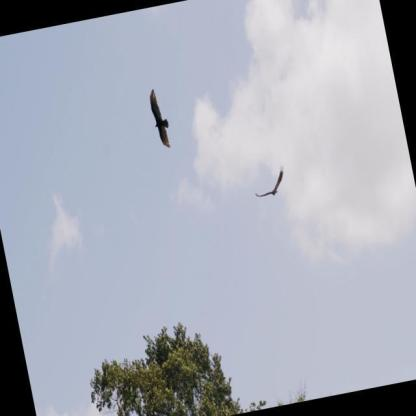bird: (147, 86, 173, 150), (250, 162, 290, 201)
